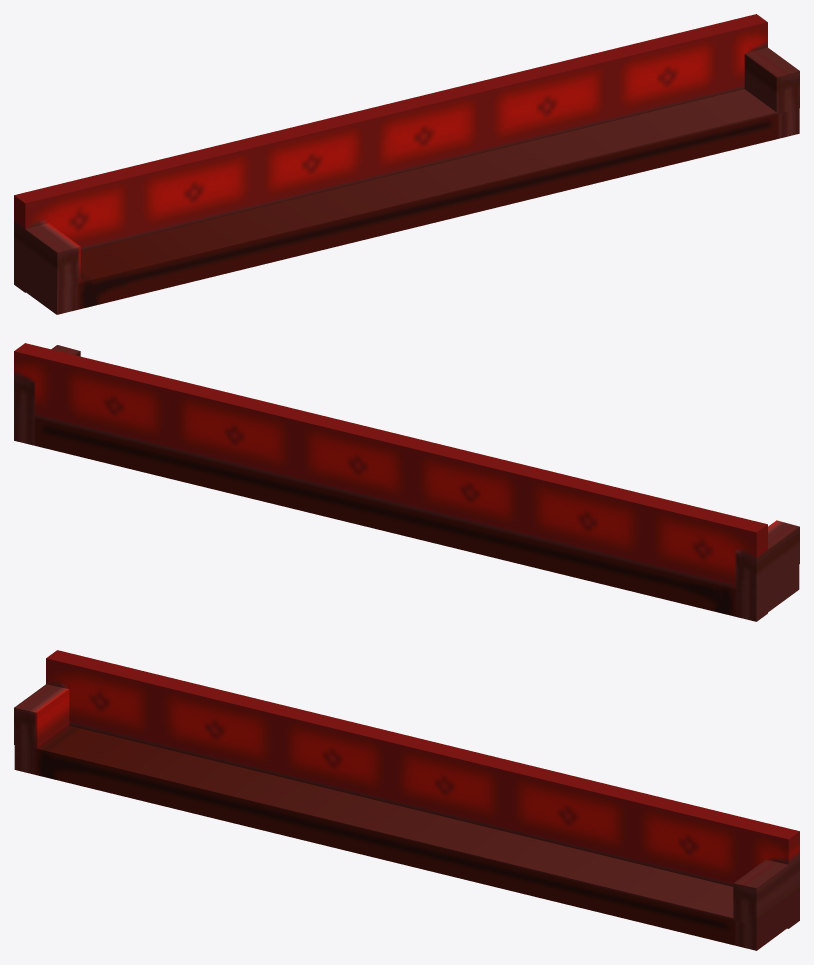
The model's file is MovBench.glb.
3 views of the same model, one above another, from view 1: azimuth 30°, elevation 25°; view 2: azimuth 150°, elevation 25°; view 3: azimuth 330°, elevation 25° (orthographic).
Visible parts, largest first — view 1: MovBench; view 2: MovBench; view 3: MovBench.
Boxes of the visible parts, <box> form: MovBench: <box>14,14,799,314</box>; MovBench: <box>14,343,799,621</box>; MovBench: <box>14,650,799,950</box>.
Bounding box in the file's own units: 304 × 35 × 30.74.
Materials: 1 (1 with a texture image).
